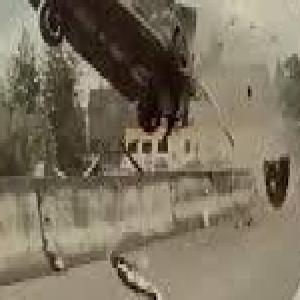fatal: (14, 0, 200, 146)
